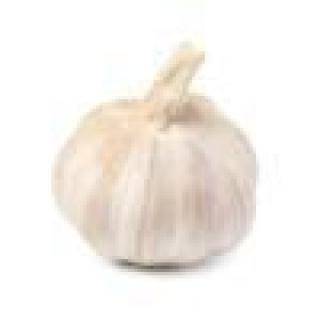Bawang Putih: (52, 49, 273, 260)
